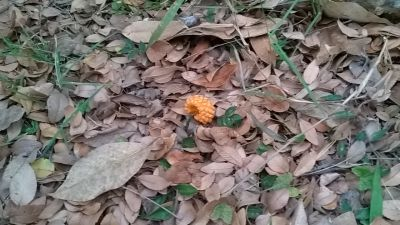eggs: (185, 94, 216, 125)
